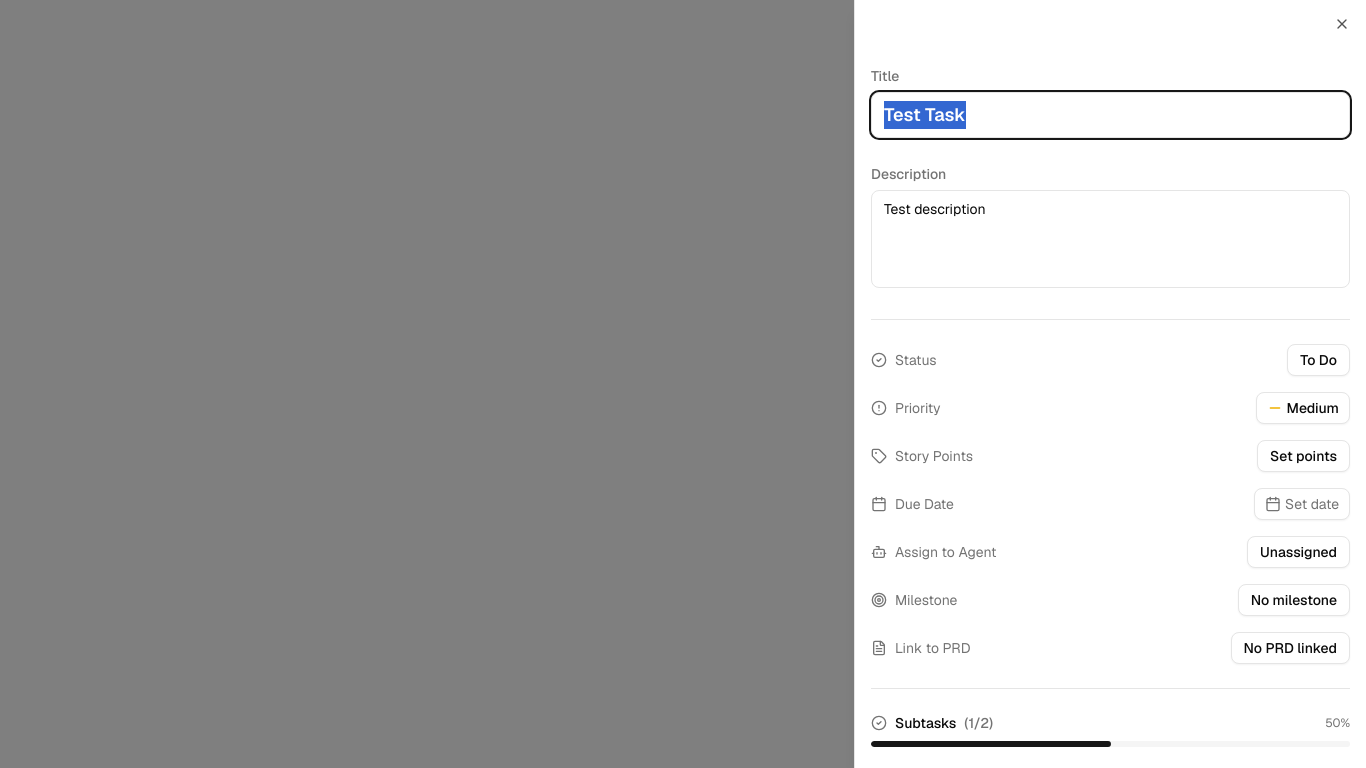
2.5 Task Detail Panel › 2.5.7 Due date picker works › Due date picker opens calendar popover
Click the button with aria-label "Due date" at (1302, 504), box [1254, 488, 1350, 520]
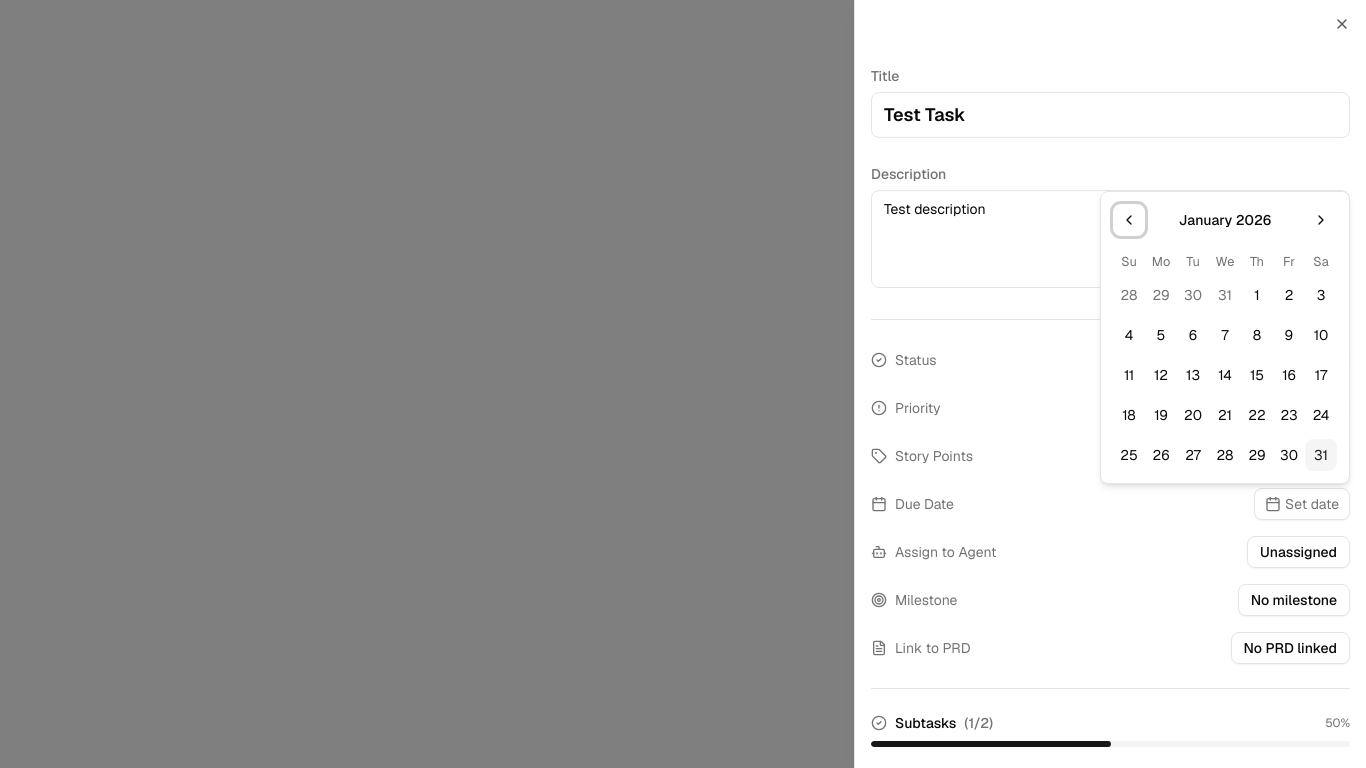
expect the table is shown: met, box [1113, 252, 1337, 471]
